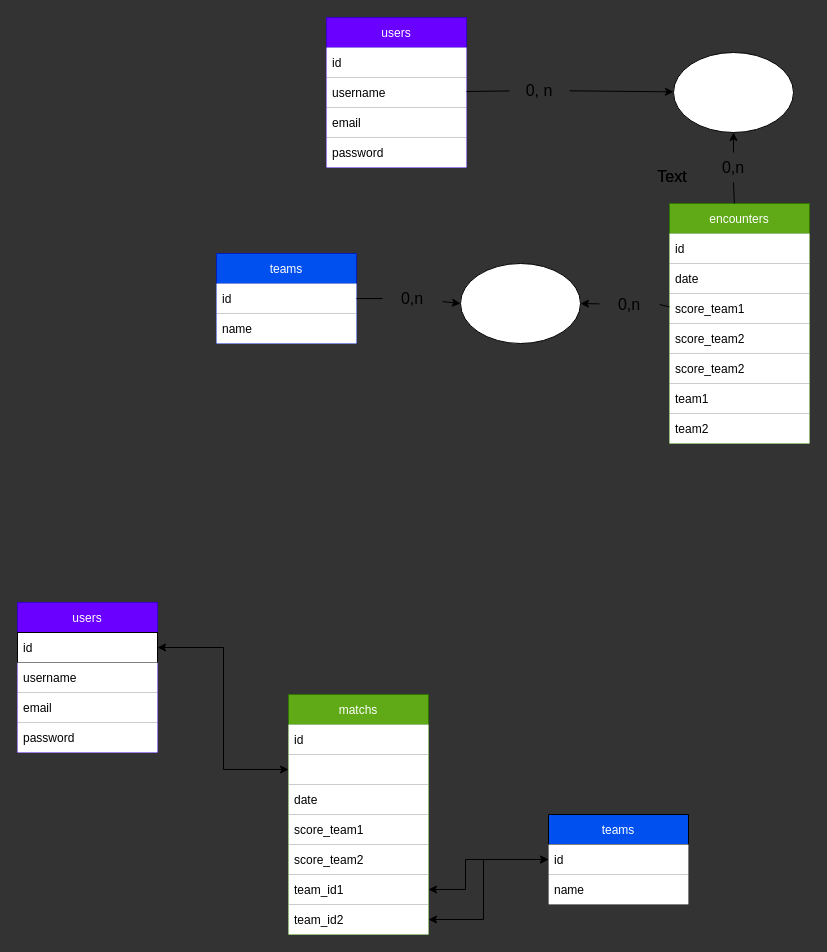
Image size: 827x952. Some labels were removed from this diagram. Here are the shapes that lost their labels. From the top down, the centre of each, then its label:
the point at 733,92: To fill (score_team1 & score_team2)
the point at 520,303: to participe
the point at 358,769: user_id
